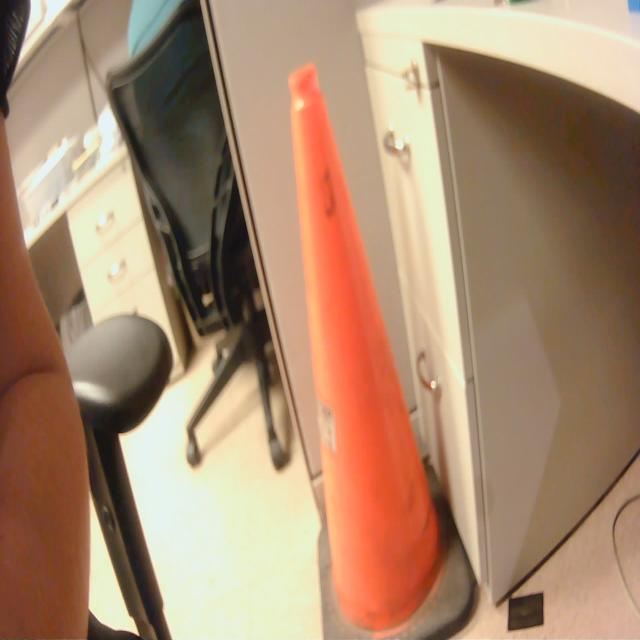traffic cone: (285, 58, 484, 640)
